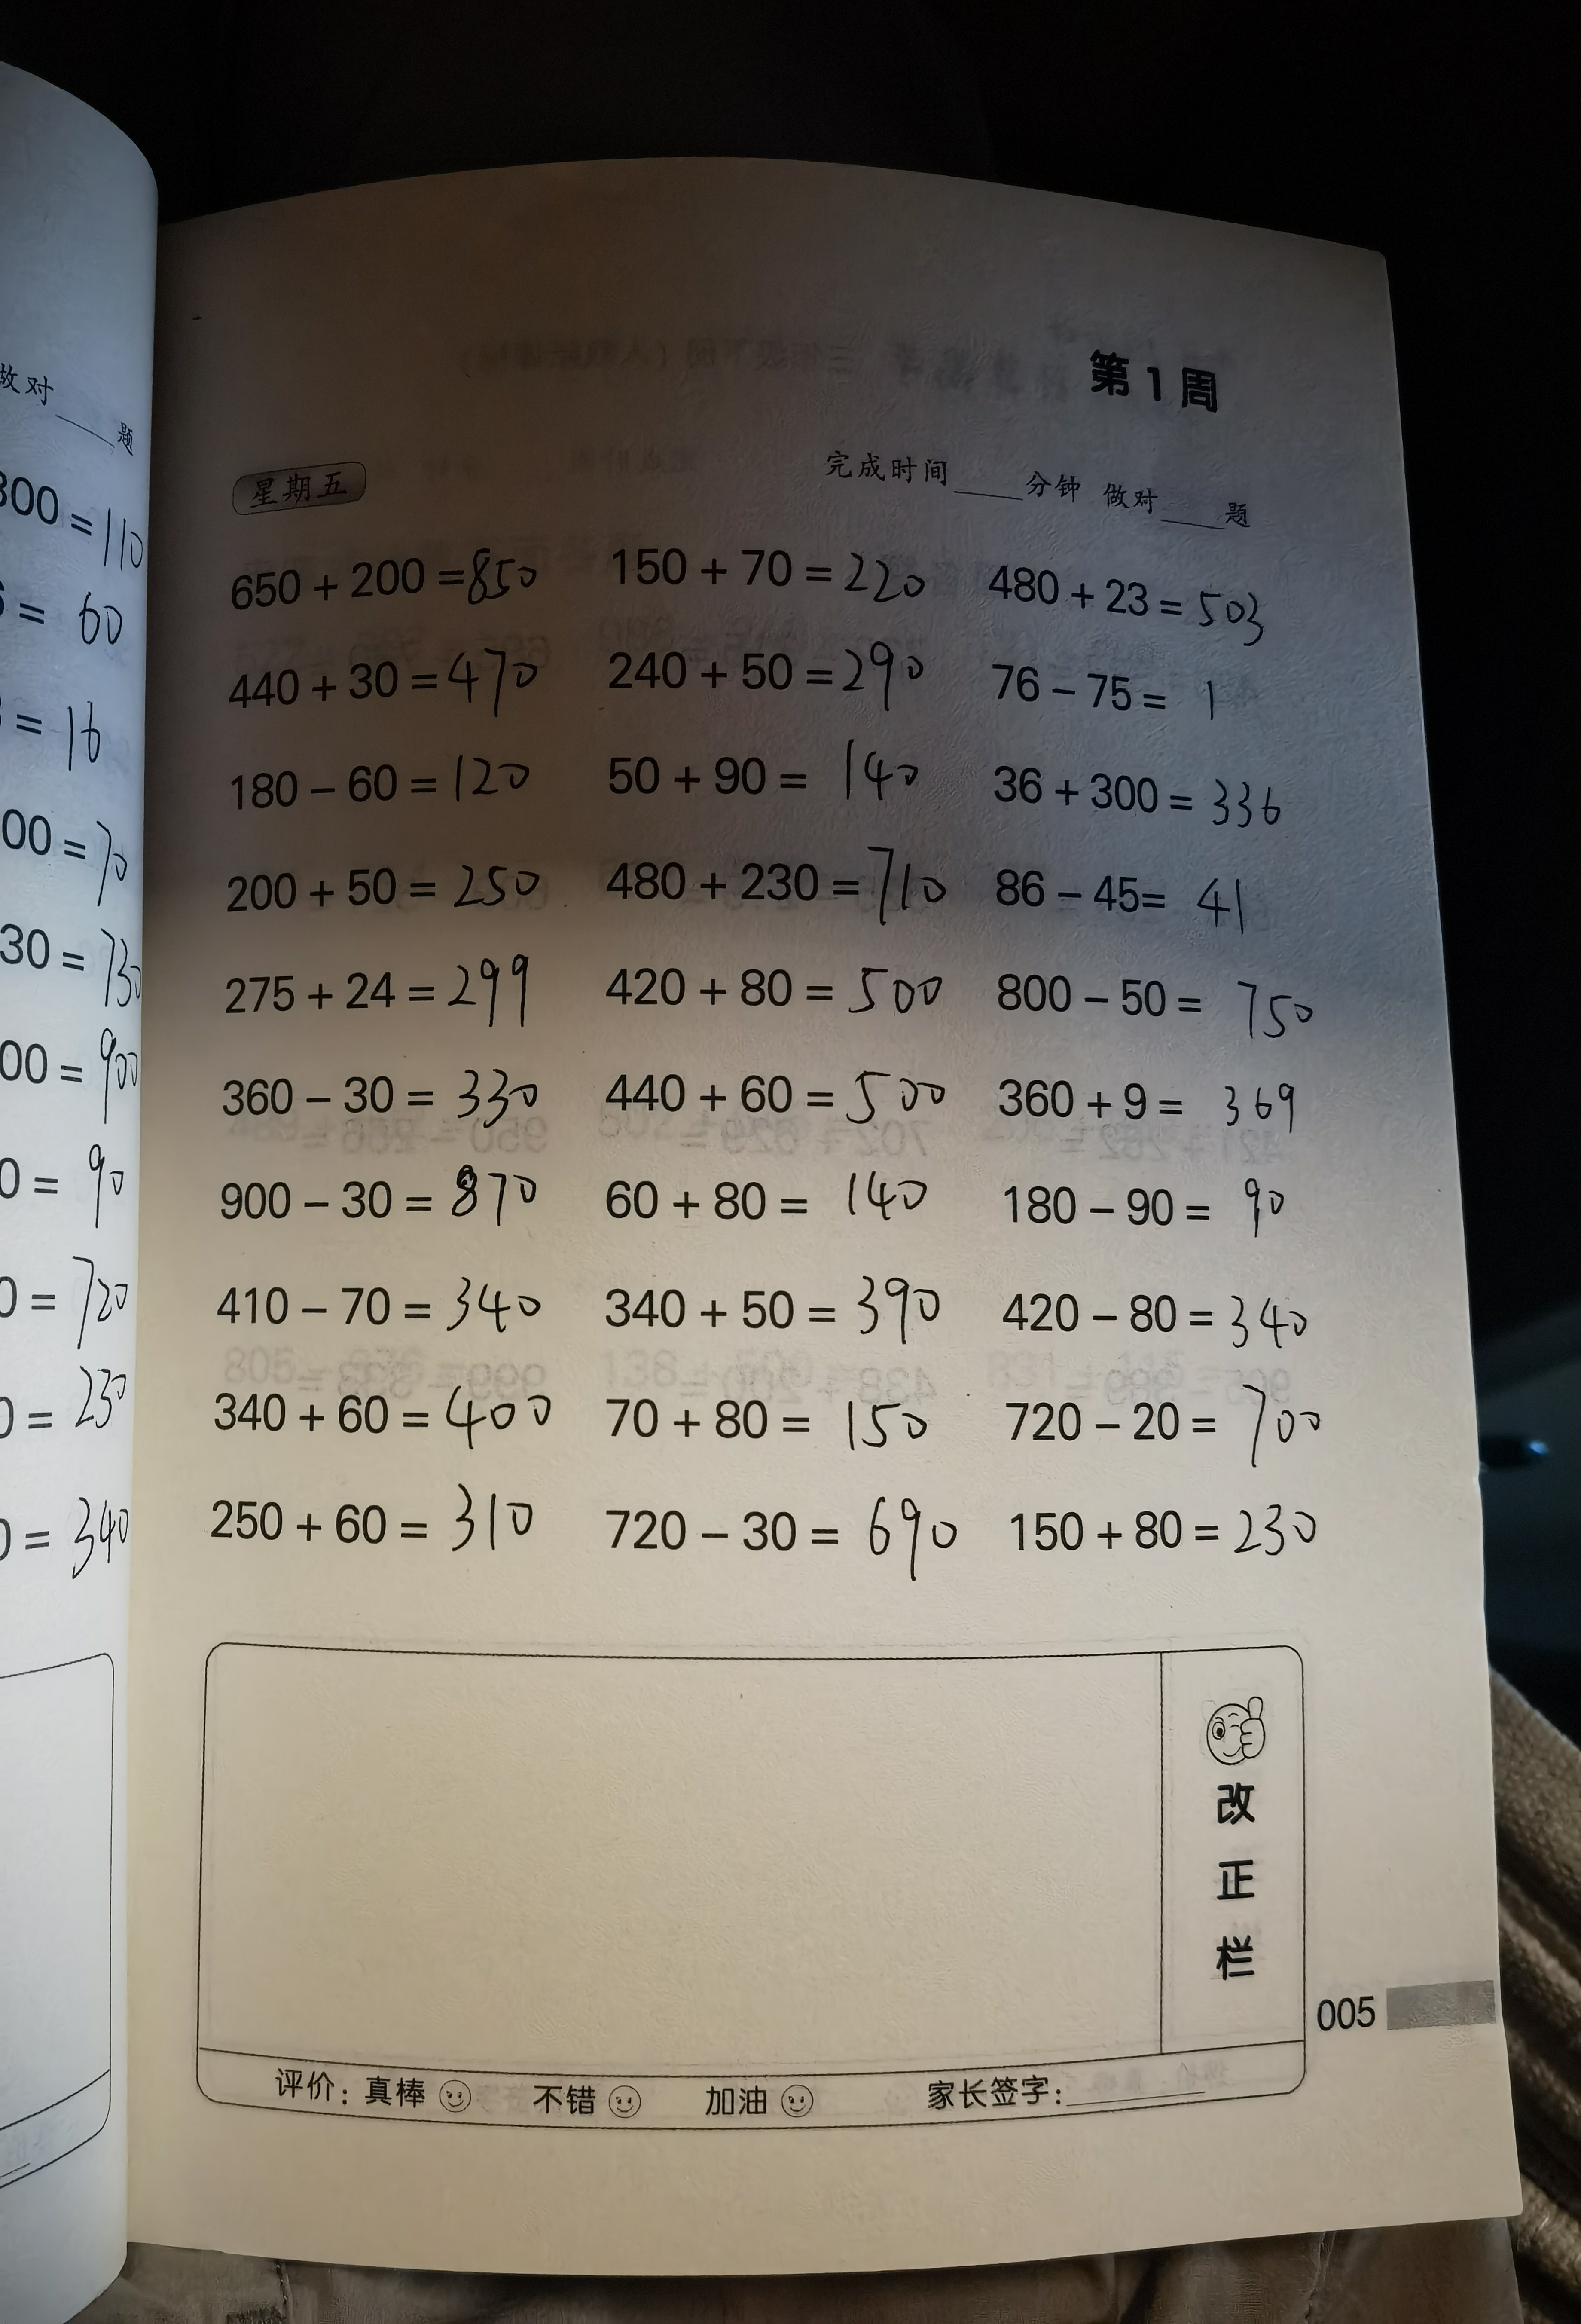equation: (199, 1477, 575, 1578), (992, 955, 1348, 1061), (1000, 1385, 1373, 1479), (976, 1061, 1337, 1156), (607, 517, 955, 616), (596, 1498, 983, 1586), (993, 750, 1311, 856), (219, 955, 568, 1048), (981, 558, 1300, 656), (591, 1272, 940, 1362), (602, 949, 965, 1036), (611, 1382, 951, 1470), (199, 1165, 568, 1246), (605, 1061, 970, 1140), (611, 856, 965, 935), (203, 1385, 579, 1459), (231, 743, 561, 826), (591, 1170, 951, 1246), (596, 639, 946, 716), (1000, 1179, 1322, 1262), (185, 1279, 561, 1350), (983, 856, 1300, 939), (1022, 1503, 1376, 1578), (215, 856, 565, 930), (205, 1071, 561, 1143), (596, 739, 939, 813), (215, 542, 551, 614), (992, 1290, 1330, 1361), (981, 649, 1263, 722), (224, 646, 554, 704)
